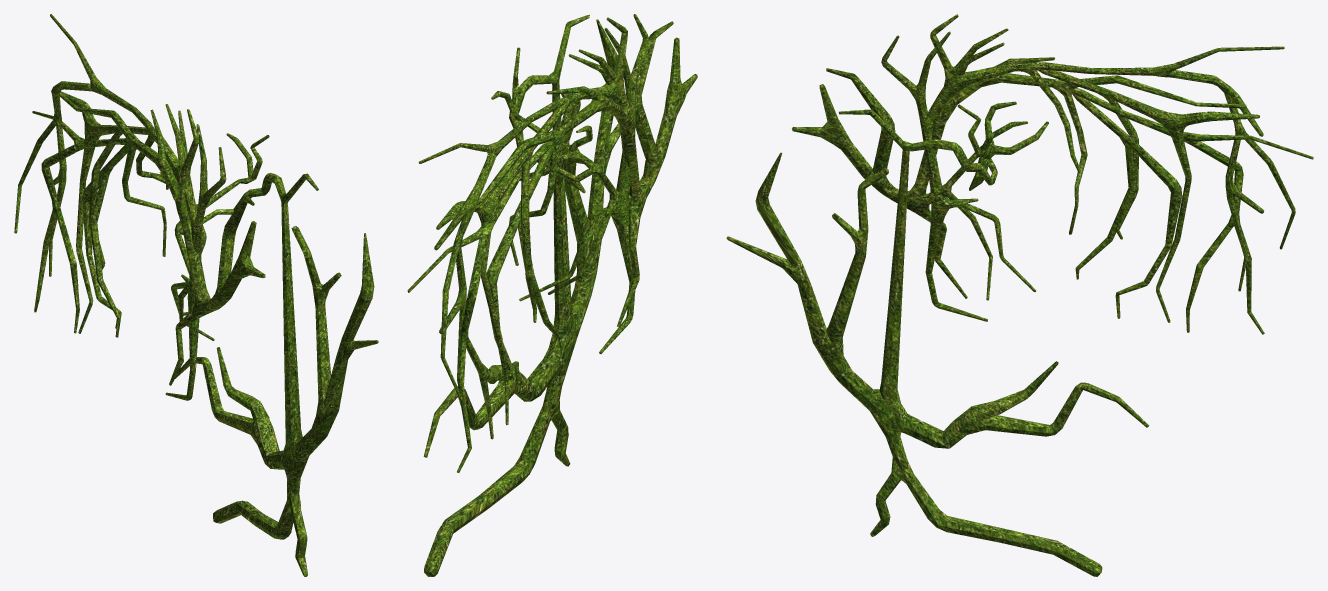
File: liana.obj
3 renders of one model, left to right at view 1: azimuth 30°, elevation 25°; view 2: azimuth 150°, elevation 25°; view 3: azimuth 270°, elevation 25°, orthographic. The views are drawn at different scales.
Visible parts, largest first — view 1: Cube.045_Cube.054, Cube.035_Cube; view 2: Cube.045_Cube.054, Cube.035_Cube; view 3: Cube.045_Cube.054, Cube.035_Cube.
Boxes of the visible parts, <box> form: Cube.045_Cube.054: <box>32,92,378,576</box>; Cube.035_Cube: <box>14,14,226,400</box>; Cube.045_Cube.054: <box>407,14,697,576</box>; Cube.035_Cube: <box>418,14,648,425</box>; Cube.045_Cube.054: <box>726,14,1313,576</box>; Cube.035_Cube: <box>881,31,1295,322</box>.
Bounding box in the file's own units: 3.9 × 14.26 × 14.82.
